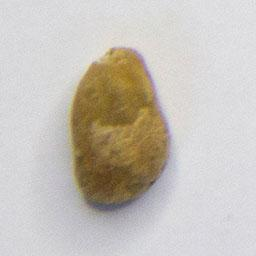defect: (66, 43, 174, 208)
